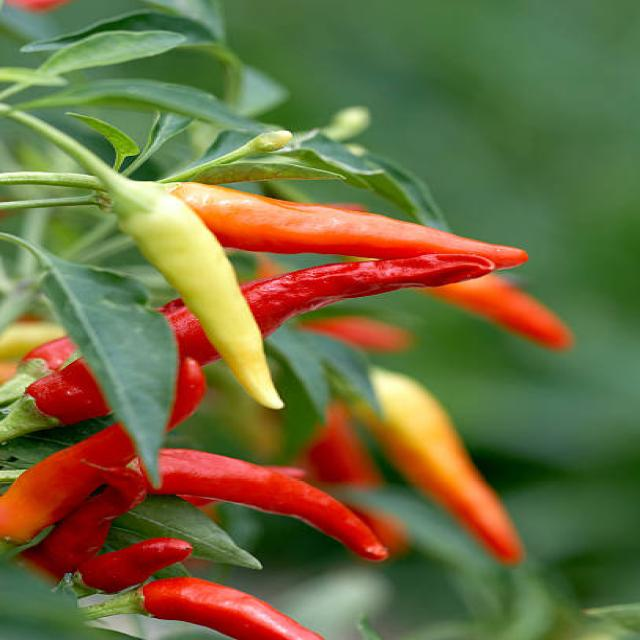Ripe: (171, 183, 527, 268), (149, 449, 385, 557), (241, 254, 494, 337), (0, 425, 135, 543), (24, 467, 145, 578), (140, 577, 324, 640), (75, 539, 190, 593)
Unripe: (115, 189, 281, 409)
